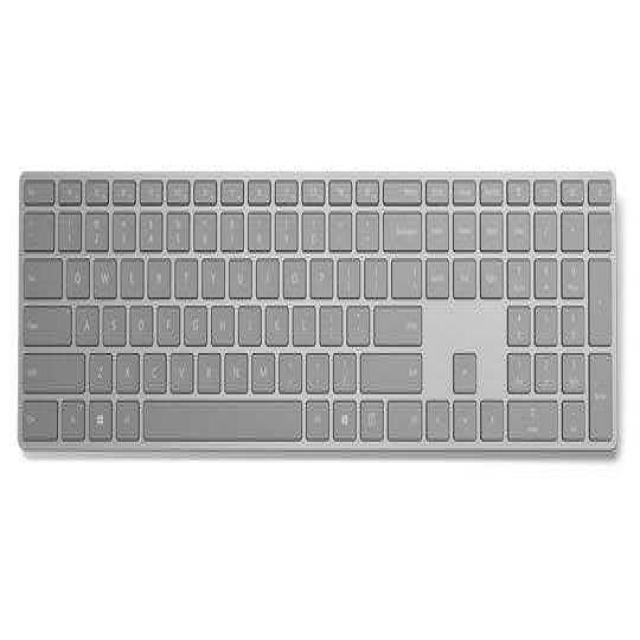keyboard: (15, 169, 620, 453)
